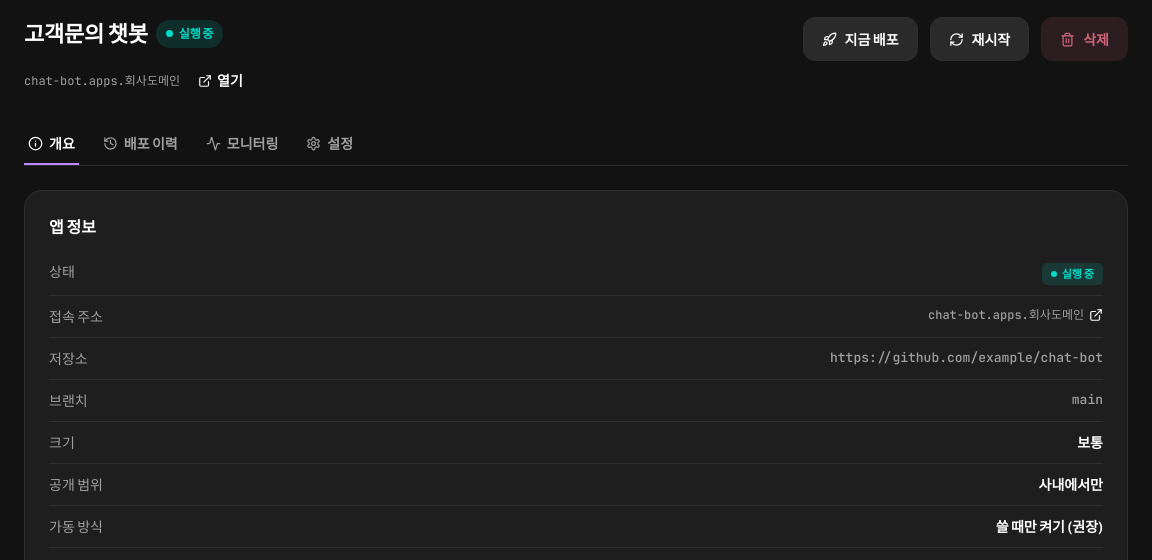
Scenario: N1 — 로그인 보호 토글 › config.json 에 frontendMode 가 없으면 public 으로 간주(토글 활성)
Expected: the heading "고객문의 챗봇 실행 중" is shown, [24,17,253,50]
Click the tab "설정" at (330, 144), box [302,123,357,165]
(page scrolled)
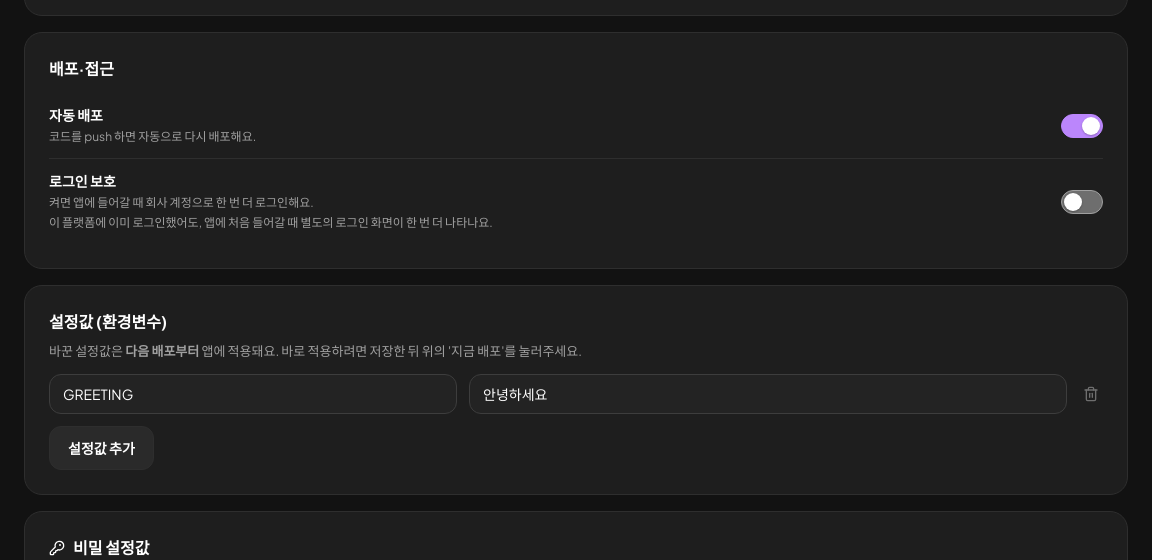
Expected: the switch named "로그인 보호" is enabled, [1061,190,1103,214]
